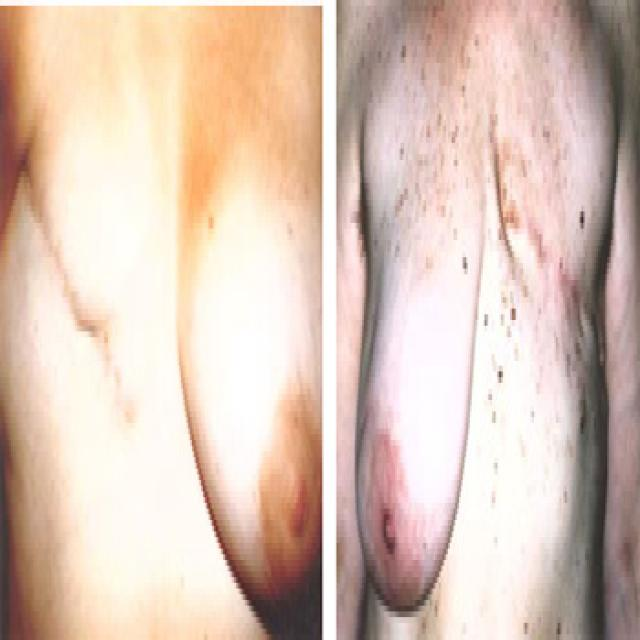Seno herido: (4, 95, 161, 501), (492, 100, 618, 406)
Seno ileso: (168, 132, 321, 635), (351, 119, 489, 636)
